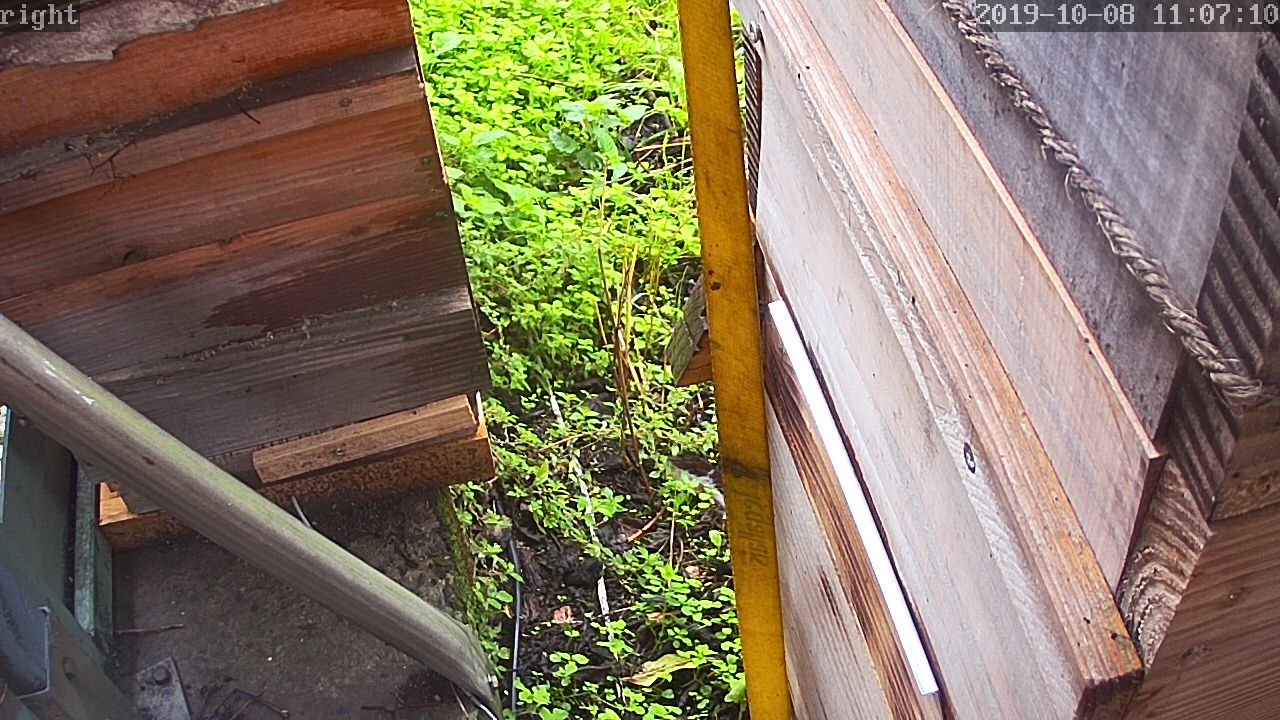hornet: (709, 534, 738, 595)
